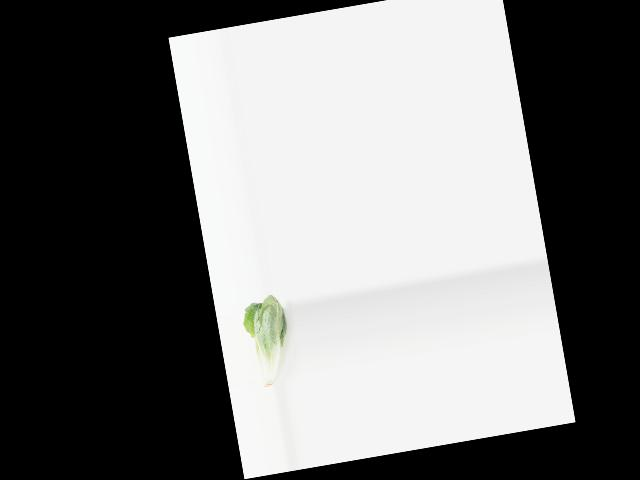lettuce: (238, 292, 299, 393)
